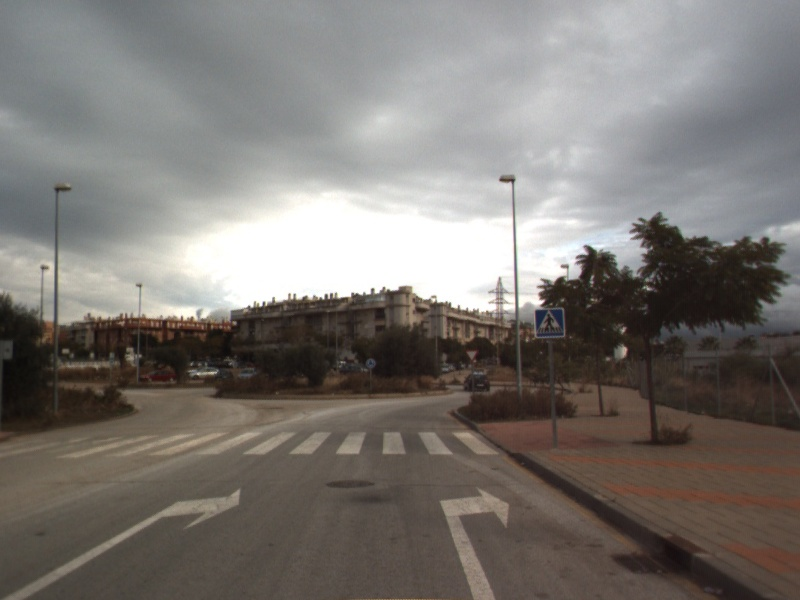RIGHT: (1, 485, 242, 600), (437, 485, 511, 600)
